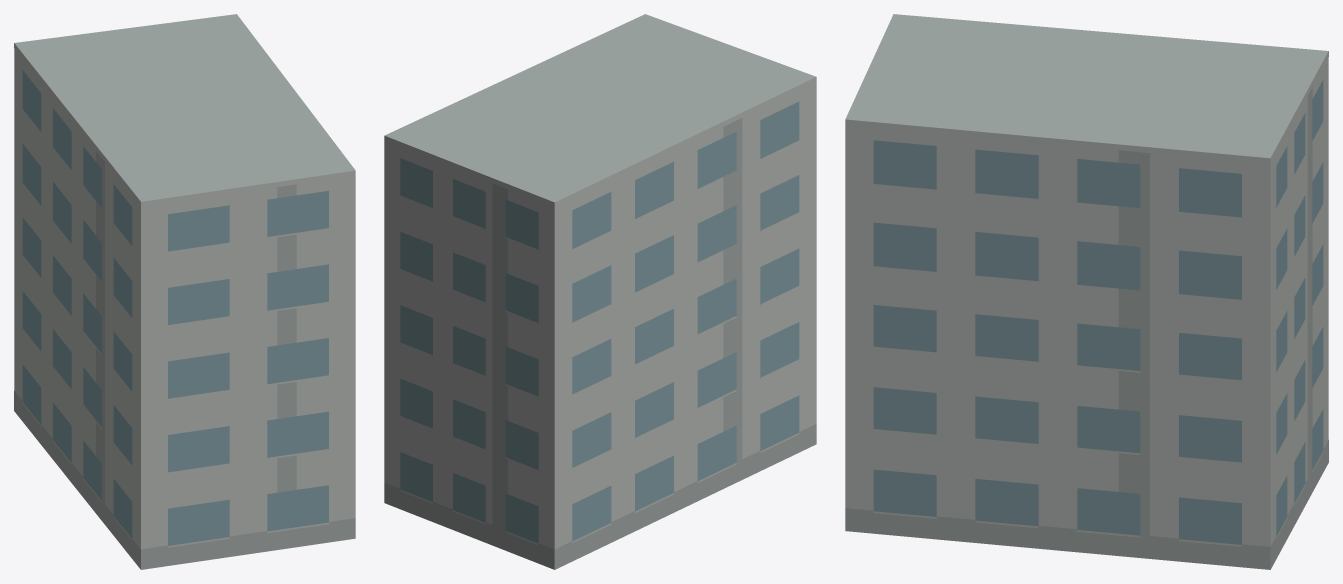
Rendered from survey-upis-32810032.glb.
The picture shows the model from 3 angles, left to right: view 1: azimuth 30°, elevation 25°; view 2: azimuth 150°, elevation 25°; view 3: azimuth 270°, elevation 25°; orthographic projection. The views are drawn at different scales.
Parts seen in each view (by area): view 1: survey-upis-32810032.tmp; view 2: survey-upis-32810032.tmp; view 3: survey-upis-32810032.tmp.
Part boxes in pixels (bbox=[...]): survey-upis-32810032.tmp: bbox=[14, 14, 355, 569]; survey-upis-32810032.tmp: bbox=[384, 14, 816, 569]; survey-upis-32810032.tmp: bbox=[845, 14, 1328, 569].
Size of the model in its own units: 12.79 by 17 by 18.11.
